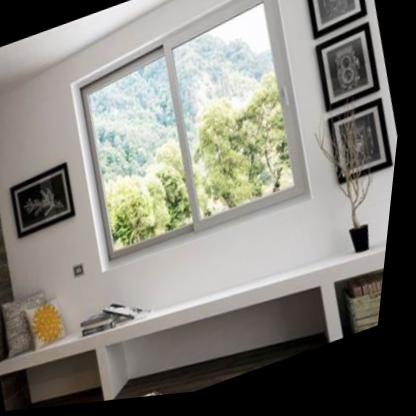Window: (80, 0, 314, 262)
